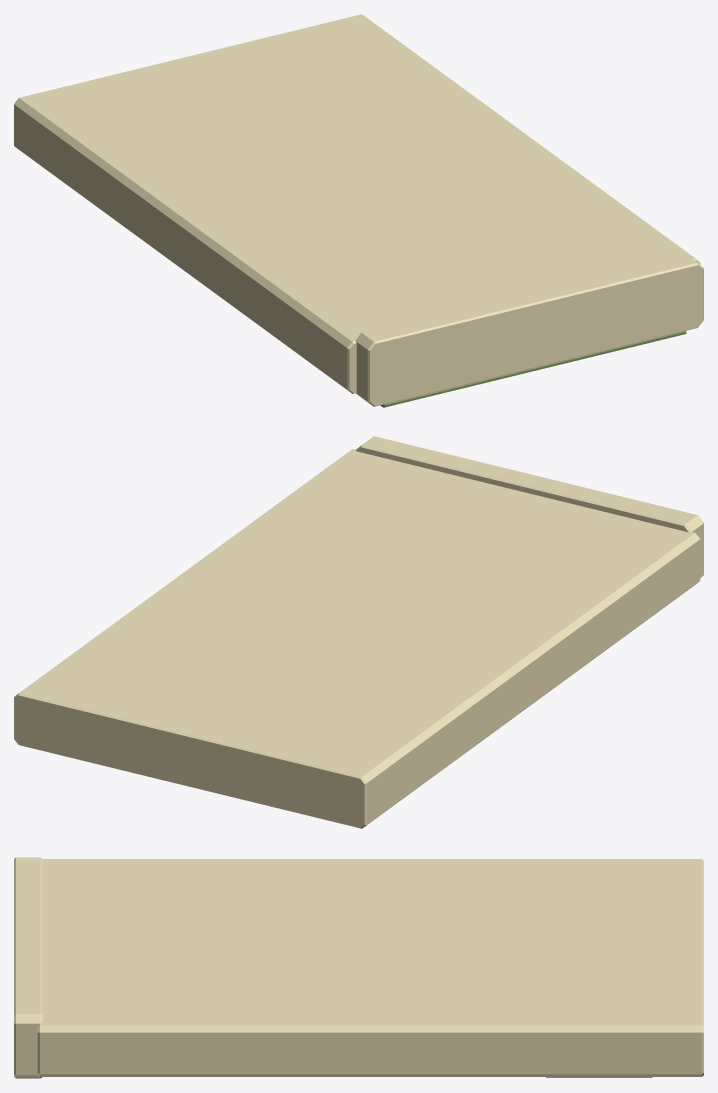
File: seeds.glb
3 renders of one model, top to bottom at view 1: azimuth 30°, elevation 25°; view 2: azimuth 150°, elevation 25°; view 3: azimuth 270°, elevation 25°, orthographic.
Parts seen in each view (by area): view 1: seeds; view 2: seeds; view 3: seeds.
Part boxes in pixels (x1,y1,x2,y2): seeds: (14,14,703,407); seeds: (14,436,703,828); seeds: (14,857,703,1078).
Bounding box in the file's own units: 0.085 × 0.0161 × 0.145.
